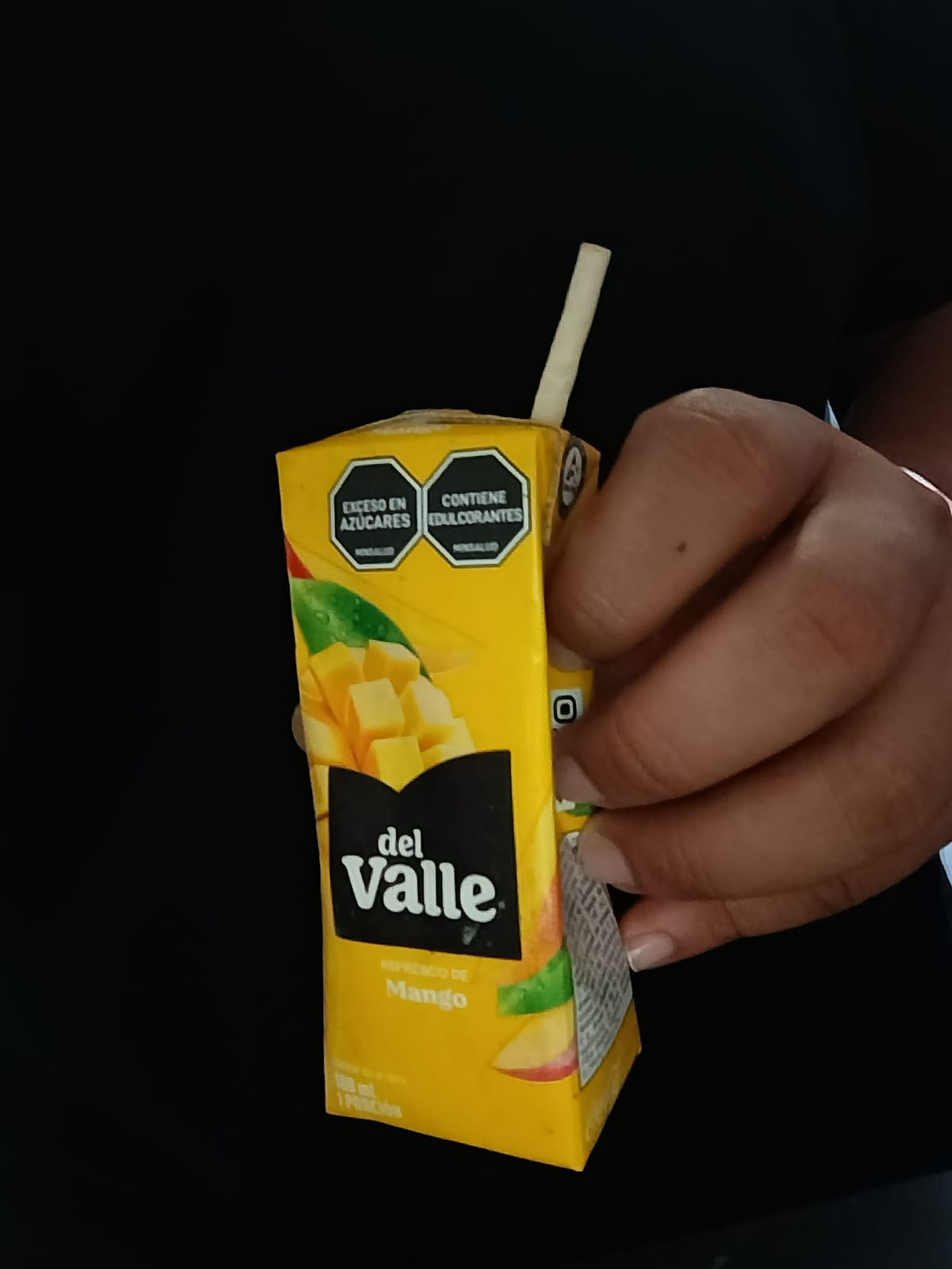Carton: (274, 418, 680, 1173)
